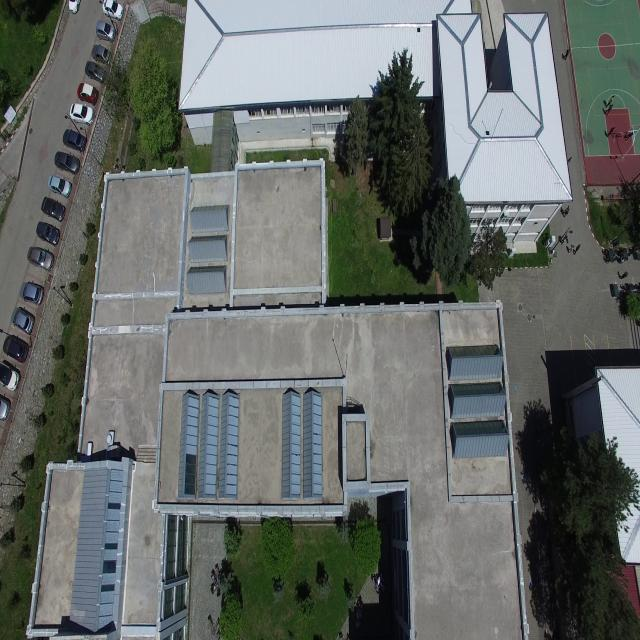p3rson: (625, 131, 635, 141), (605, 104, 613, 116), (606, 95, 614, 106), (607, 126, 615, 136), (574, 244, 581, 255), (563, 49, 570, 60), (560, 235, 567, 245), (564, 206, 570, 217), (620, 271, 628, 279), (212, 582, 218, 592), (568, 245, 574, 255), (211, 574, 215, 581), (568, 156, 572, 163)
